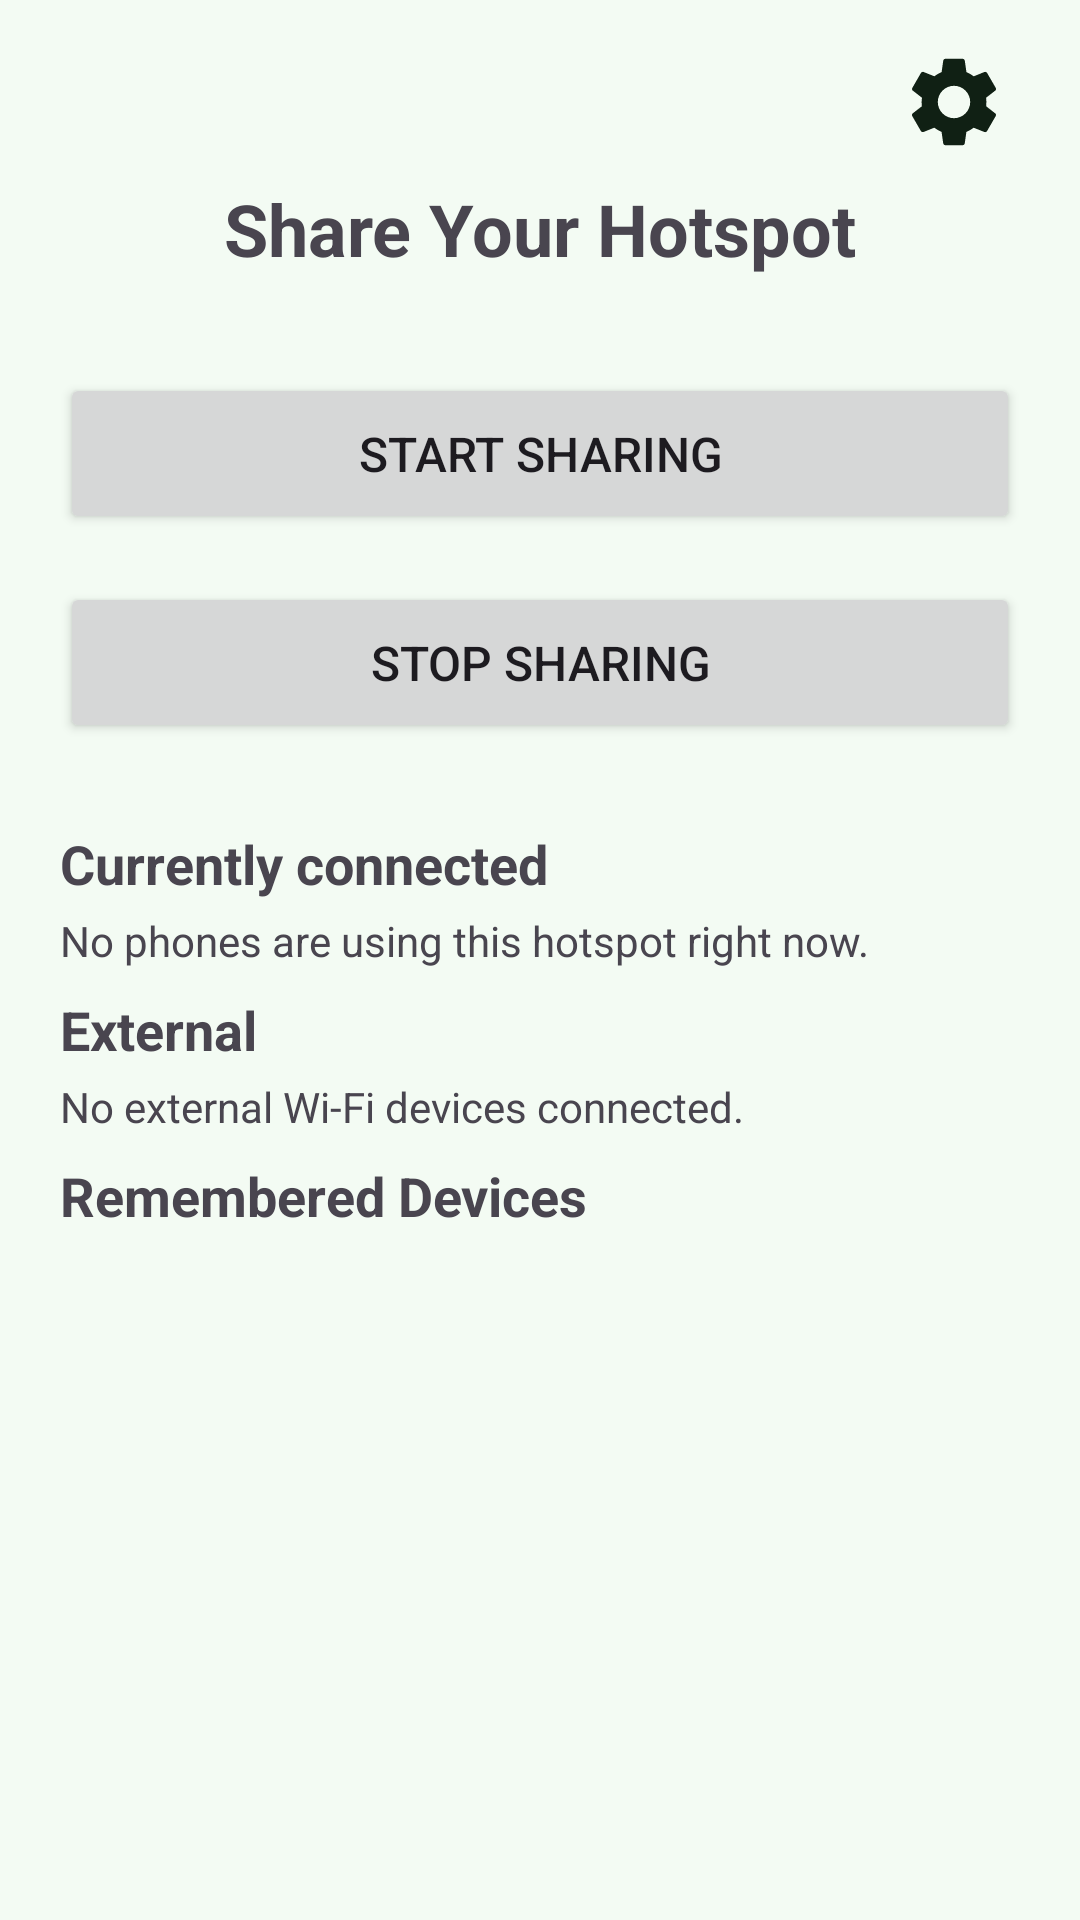

Icons on this 1080*1920 Android screen, each with the point to tap as (x=x, y=y):
Settings: (x=954, y=102)
